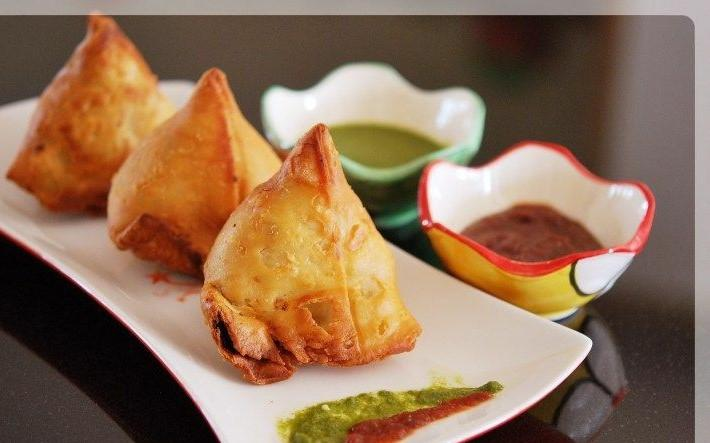Samosa: (200, 122, 423, 386), (112, 65, 284, 272), (6, 9, 165, 219)
